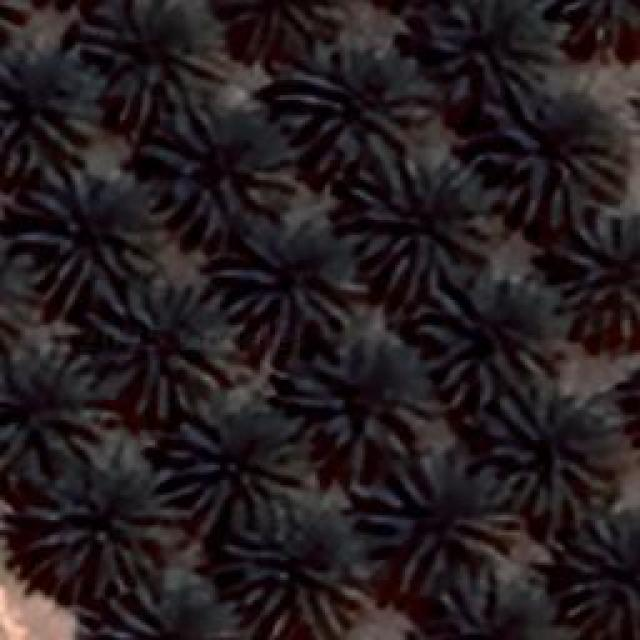PalmTree: (53, 53, 142, 614), (340, 154, 498, 298), (90, 275, 242, 420), (25, 448, 180, 590), (145, 105, 293, 245), (274, 40, 428, 168), (220, 500, 362, 635), (280, 332, 430, 458), (490, 90, 620, 228), (19, 168, 162, 292), (490, 382, 612, 520), (95, 0, 223, 125), (427, 0, 555, 98), (419, 295, 549, 390), (0, 40, 95, 158), (171, 415, 301, 500), (0, 334, 88, 458), (372, 475, 500, 560), (558, 512, 638, 638), (555, 212, 635, 338), (241, 246, 341, 339), (220, 0, 350, 64), (429, 577, 539, 640), (15, 125, 53, 297), (544, 0, 640, 64), (623, 351, 640, 462), (0, 0, 34, 49), (629, 356, 640, 462)
